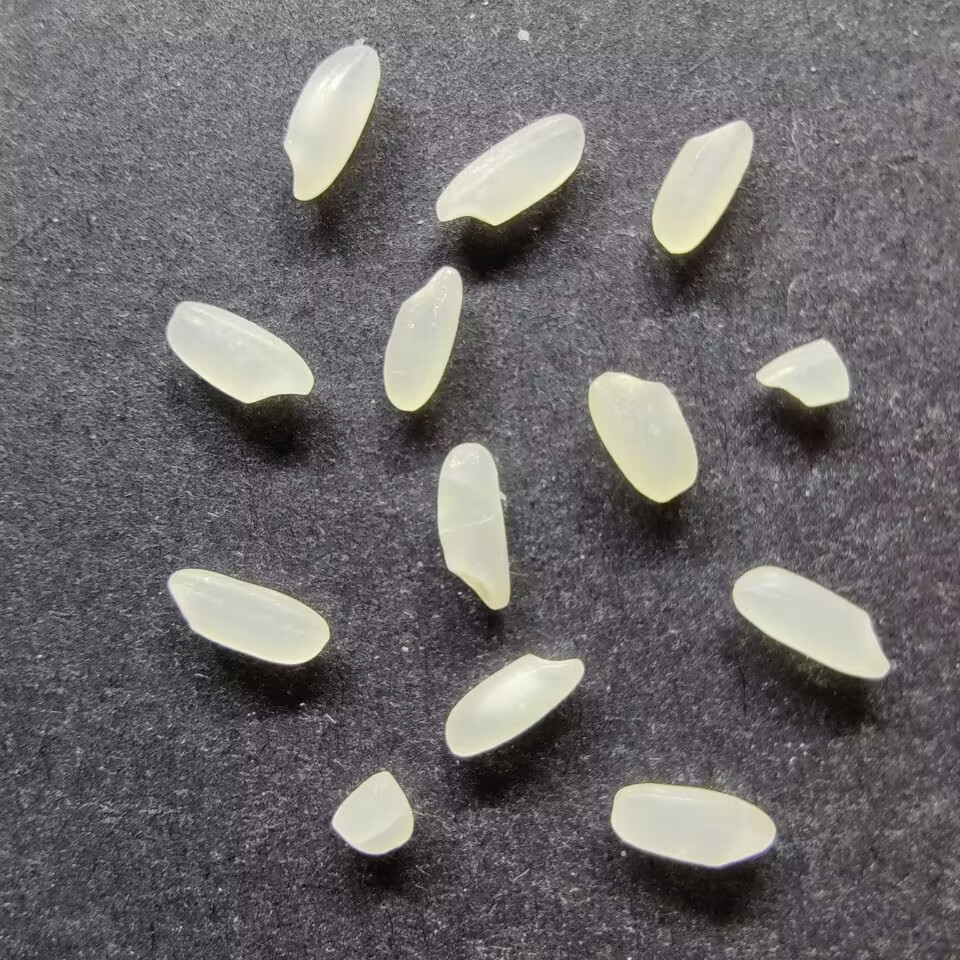broken: (330, 771, 415, 855), (754, 338, 849, 408)
rice: (731, 565, 890, 679), (434, 113, 584, 226), (167, 567, 329, 665), (282, 43, 380, 201), (165, 301, 314, 403), (442, 652, 584, 758), (586, 370, 698, 503), (610, 782, 776, 869), (650, 120, 753, 255), (435, 442, 512, 611), (382, 264, 463, 412)
